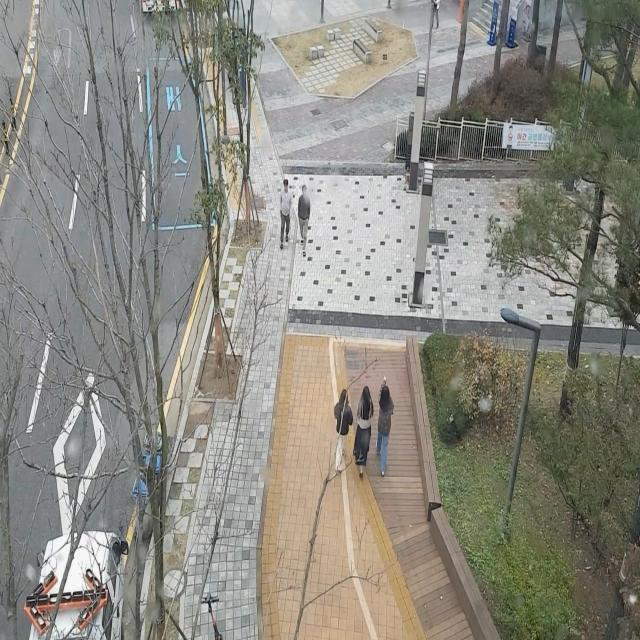Truck: (11, 510, 136, 640)
